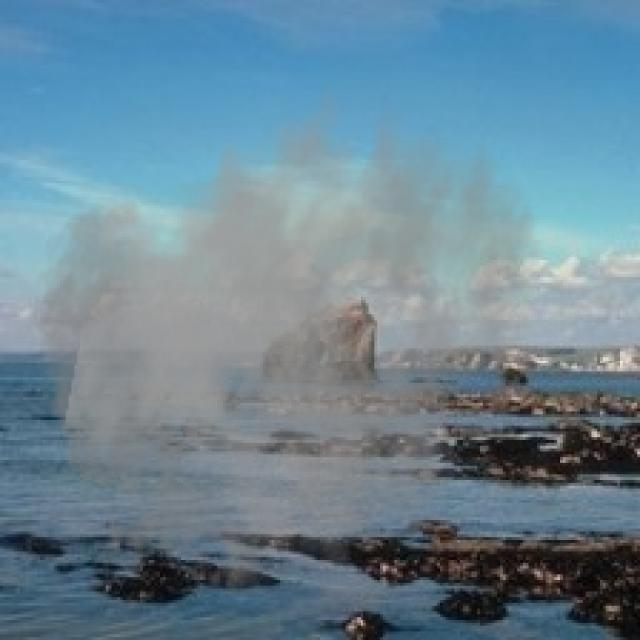smoke: (26, 63, 543, 617)
